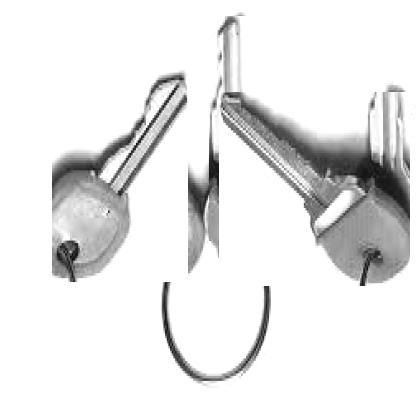key: (219, 92, 410, 286), (53, 44, 188, 282), (209, 16, 262, 241)
